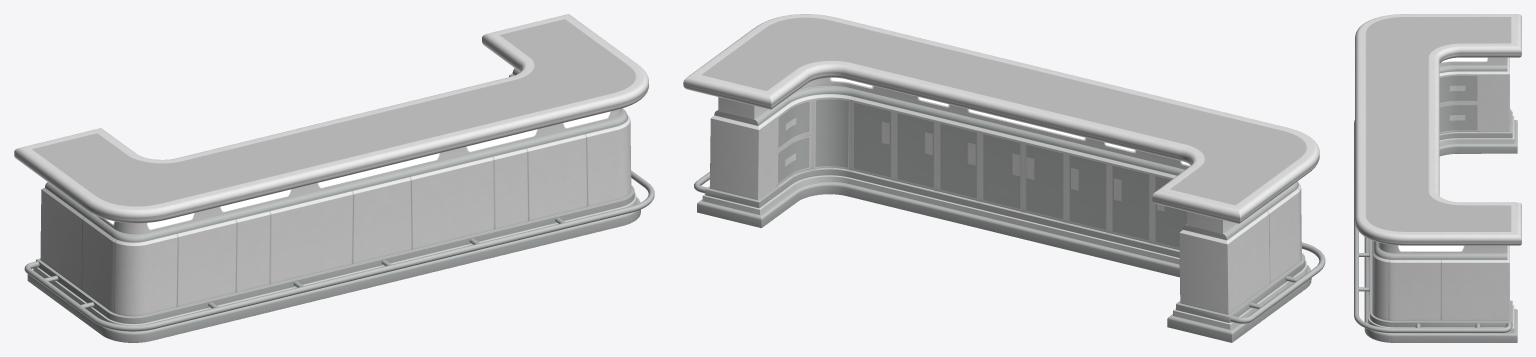
The model's file is BartenderTable03_1.FBX.
3 views of the same model, side by side, from view 1: azimuth 30°, elevation 25°; view 2: azimuth 150°, elevation 25°; view 3: azimuth 270°, elevation 25° (orthographic). The views are drawn at different scales.
Visible parts, largest first — view 1: BartenderTable03_1; view 2: BartenderTable03_1; view 3: BartenderTable03_1.
Boxes of the visible parts, <box> form: BartenderTable03_1: <box>14,14,654,342</box>; BartenderTable03_1: <box>683,14,1325,342</box>; BartenderTable03_1: <box>1354,14,1521,342</box>.
Size of what is drawn, in the model's own units: 4.76 by 1.1 by 1.51.
